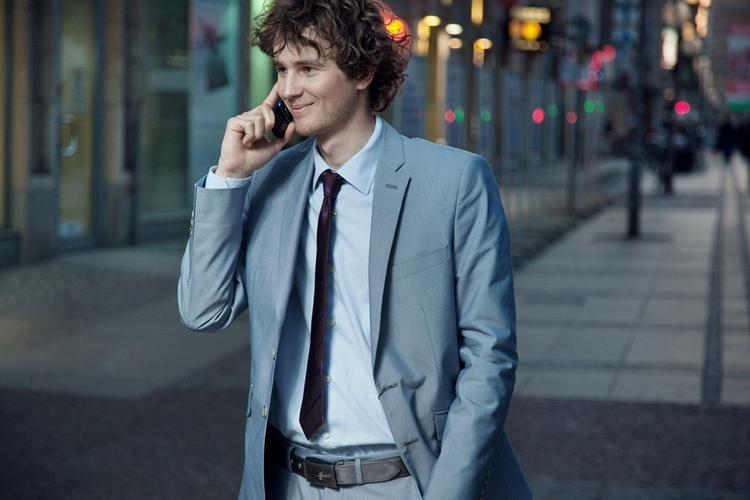calling: (217, 74, 299, 171)
